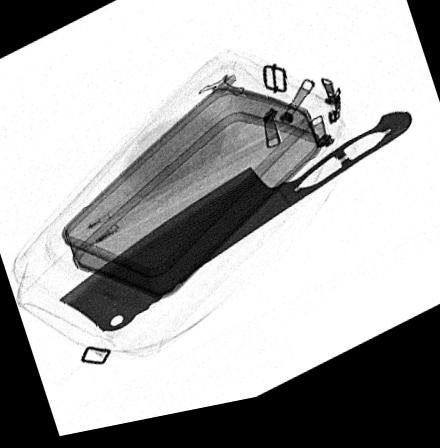Knife: (56, 127, 413, 336)
